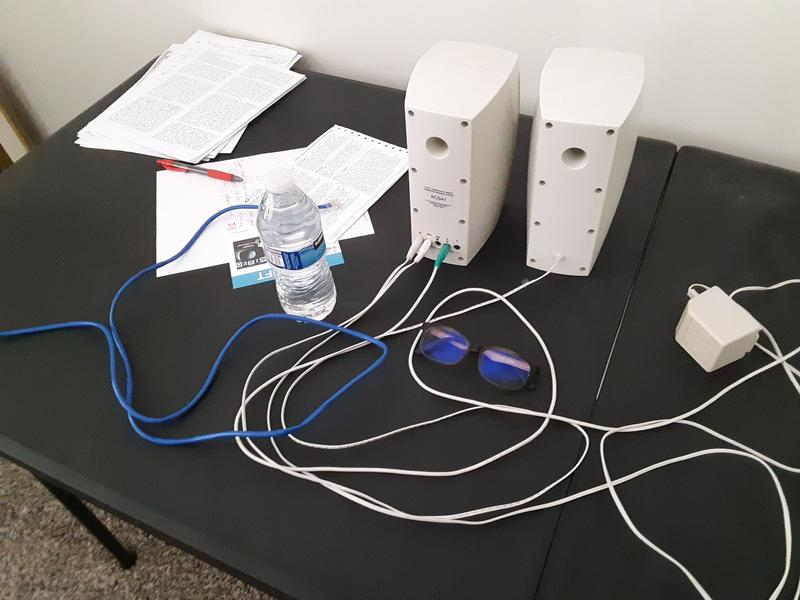glasses: (412, 320, 541, 396)
